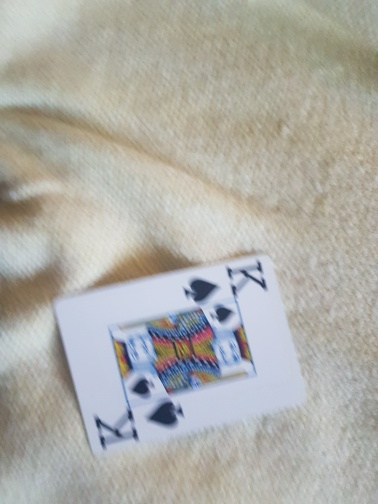king: (51, 252, 307, 449)
